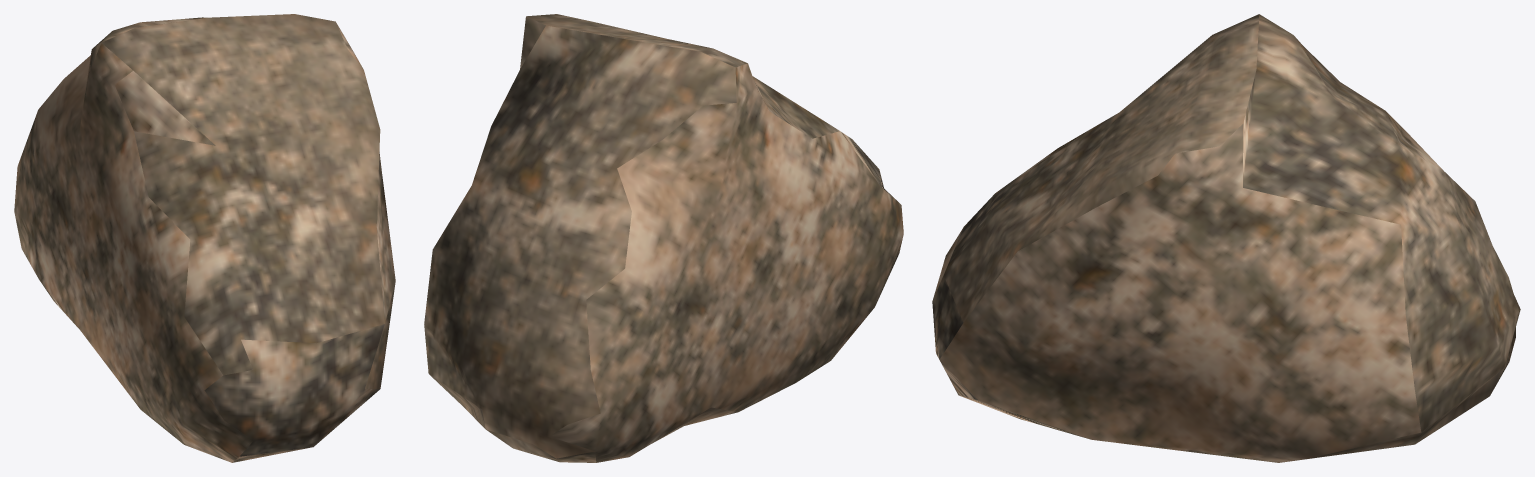
The model's file is PiedraSola.fbx.
The picture shows the model from 3 angles, left to right: view 1: azimuth 30°, elevation 25°; view 2: azimuth 150°, elevation 25°; view 3: azimuth 270°, elevation 25°; orthographic projection. The views are drawn at different scales.
Visible parts, largest first — view 1: Cube.026_cell.061; view 2: Cube.026_cell.061; view 3: Cube.026_cell.061.
Boxes of the visible parts, x1=… form: Cube.026_cell.061: x1=14, y1=14, x2=395, y2=462; Cube.026_cell.061: x1=424, y1=14, x2=903, y2=462; Cube.026_cell.061: x1=932, y1=14, x2=1520, y2=462.
Bounding box in the file's own units: 159 × 205 × 285.
Materials: 1 (1 with a texture image).
